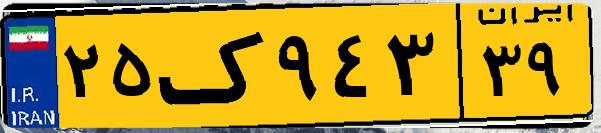2: (57, 26, 110, 100)
3: (385, 28, 445, 110), (475, 38, 525, 113)
4: (330, 28, 385, 110)
5: (110, 28, 158, 98)
9: (270, 28, 330, 110), (525, 38, 570, 115)
ک: (158, 12, 270, 120)
